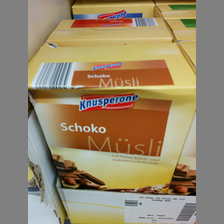cereal: (28, 43, 196, 193)
